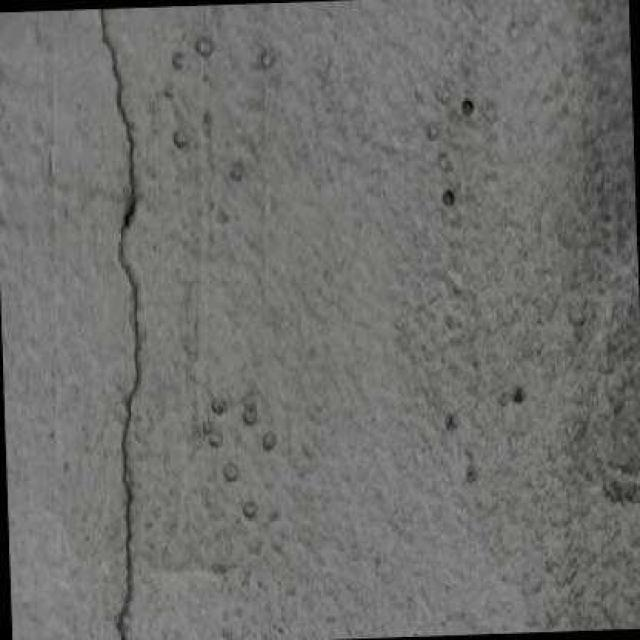D00: (94, 7, 139, 640)
